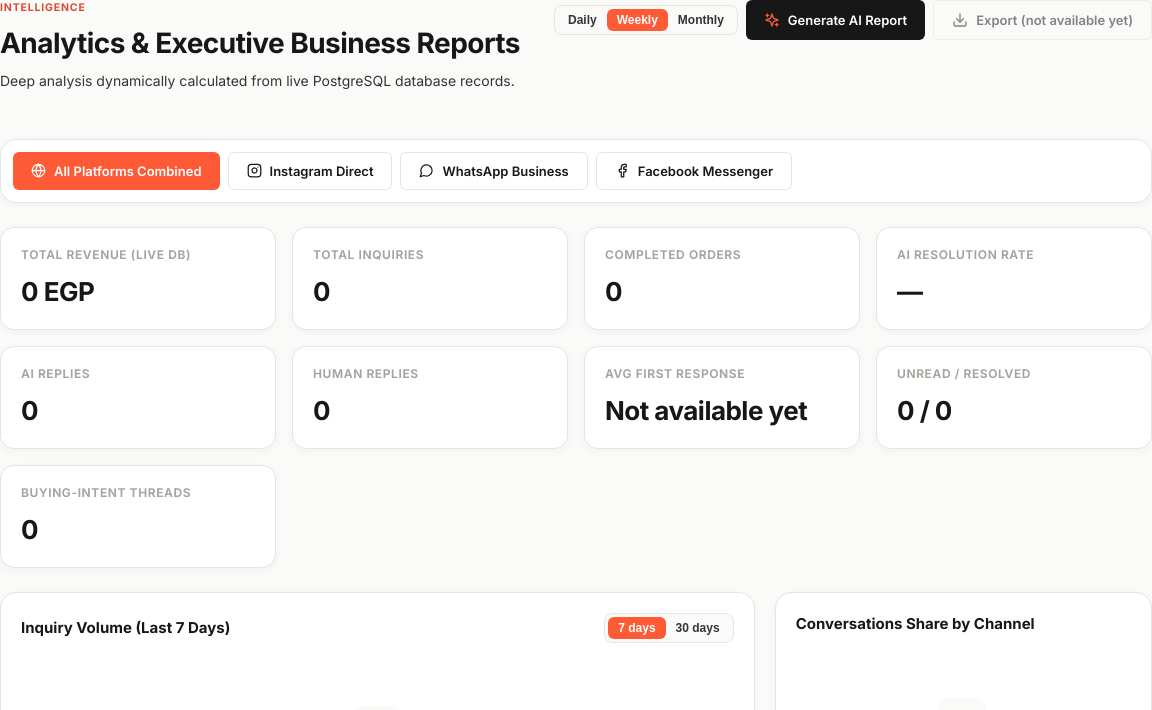
Scenario: Analytics page › generates report using live AI insights from backend
What coordinates should you click on to do the following:
click the button "Generate AI Report"
I would click on:
 (835, 20)
Its box is [746,0,925,40].
(page scrolled)
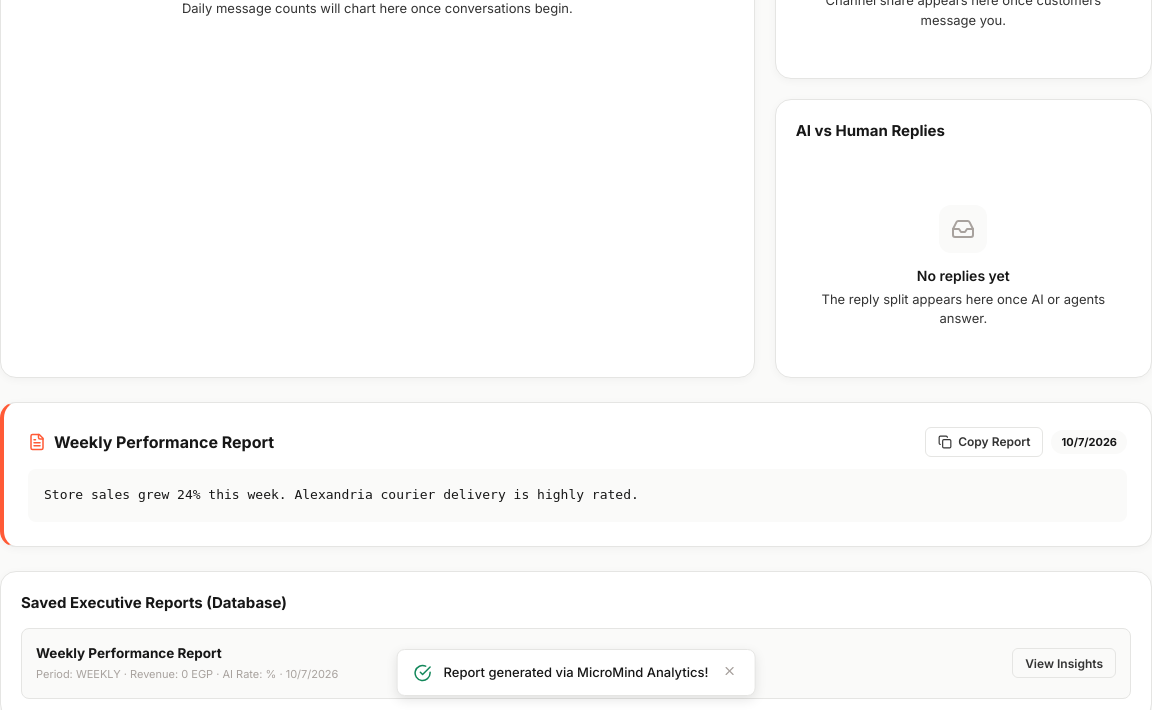
Expected: the text "Report generated via MicroMind Analytics!" is shown, [444,663,708,682]
Expected: the text "Store sales grew 24% this week" is shown, [44,487,639,502]
